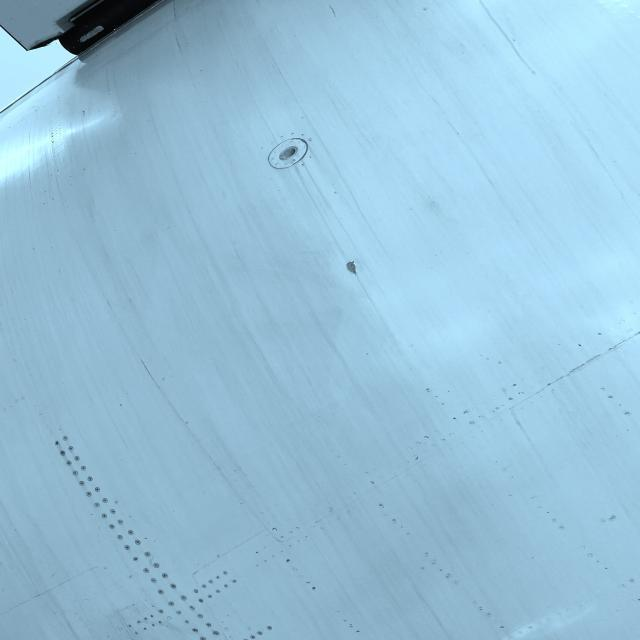crack: (337, 261, 372, 285), (138, 355, 160, 381)
